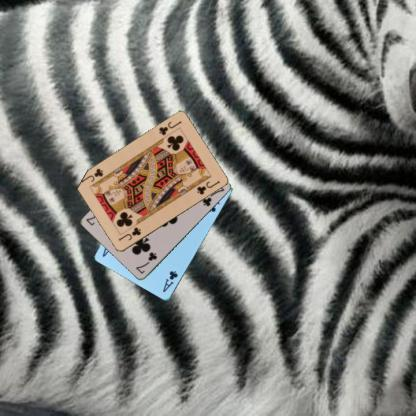7c: (133, 250, 158, 276)
Ac: (160, 268, 179, 294)
Jc: (156, 118, 183, 137), (116, 224, 142, 242)
